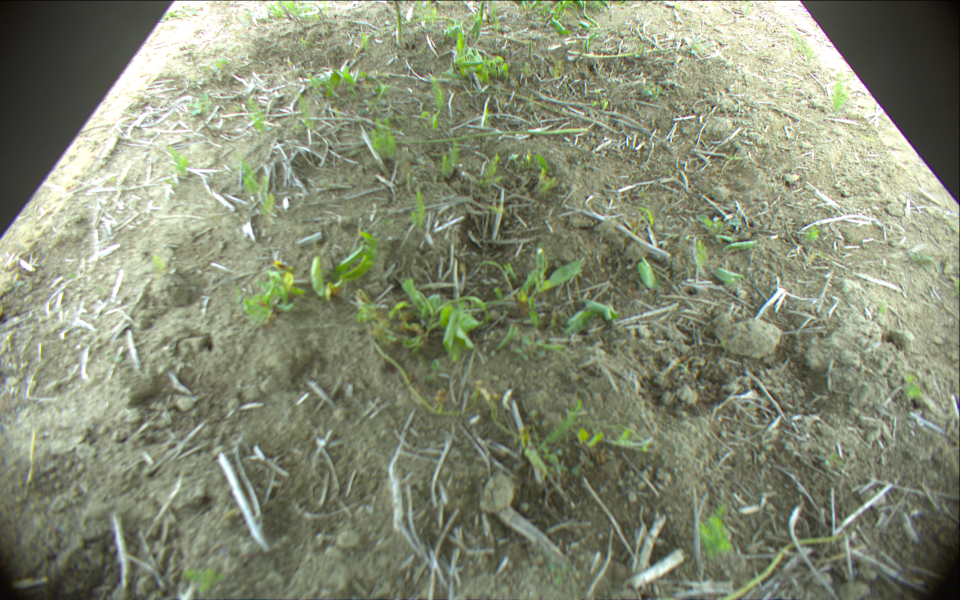aspa: (716, 535, 844, 600), (380, 127, 588, 147), (567, 45, 686, 59), (396, 3, 404, 43)
